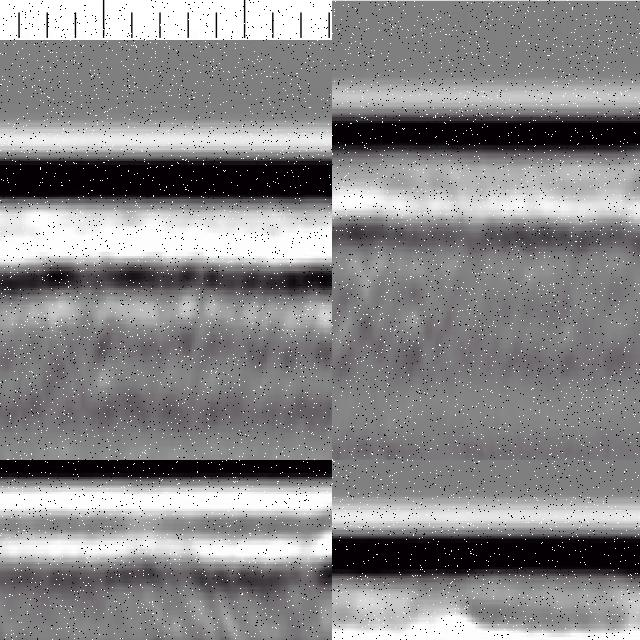loose: (151, 512, 333, 640)
